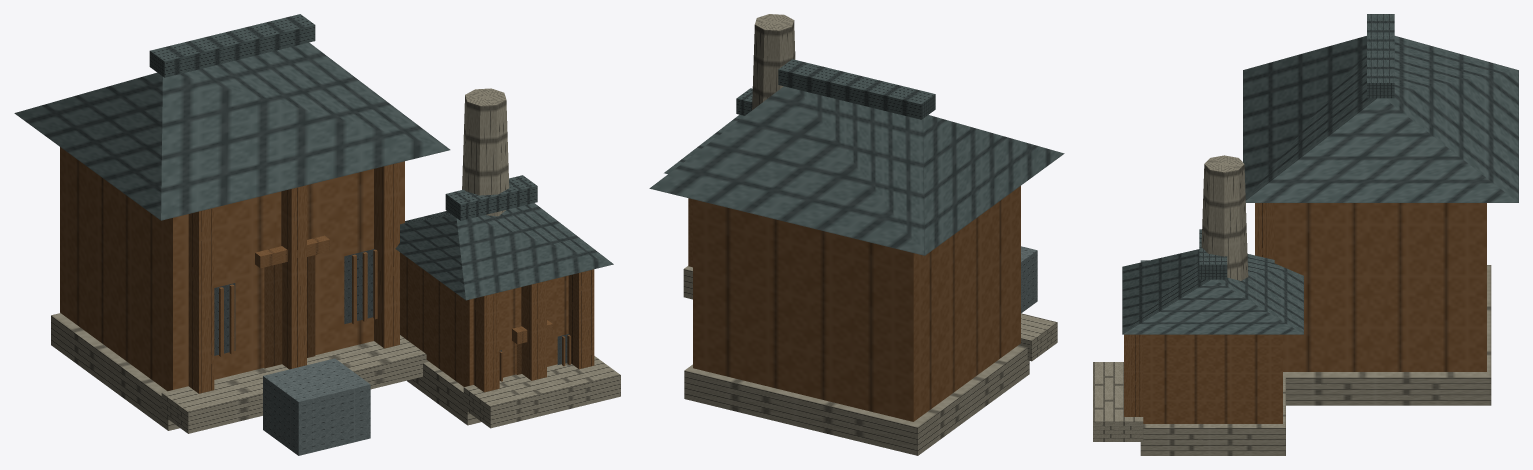
The model's file is domestic-SMITH-2-lod0.glb.
3 views of the same model, side by side, from view 1: azimuth 30°, elevation 25°; view 2: azimuth 150°, elevation 25°; view 3: azimuth 270°, elevation 25° (orthographic). The views are drawn at different scales.
Size of the model in its own units: 0.755 by 0.604 by 0.762.
Materials: 1 (1 with a texture image).
